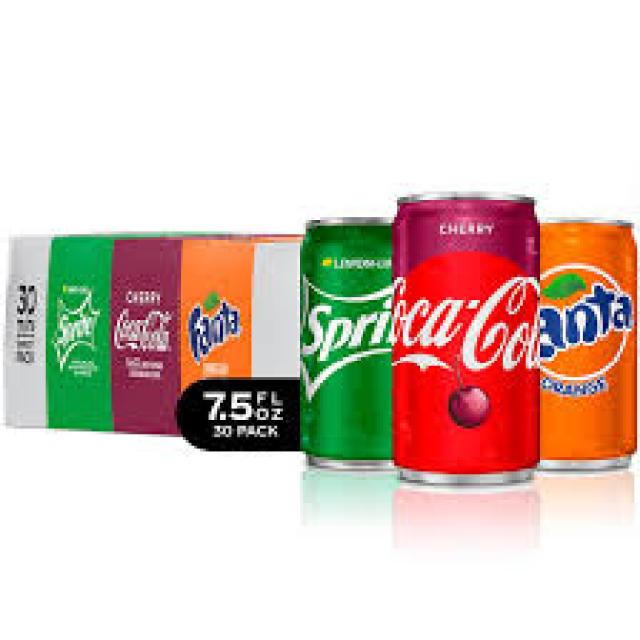Cans: (388, 188, 546, 492)
